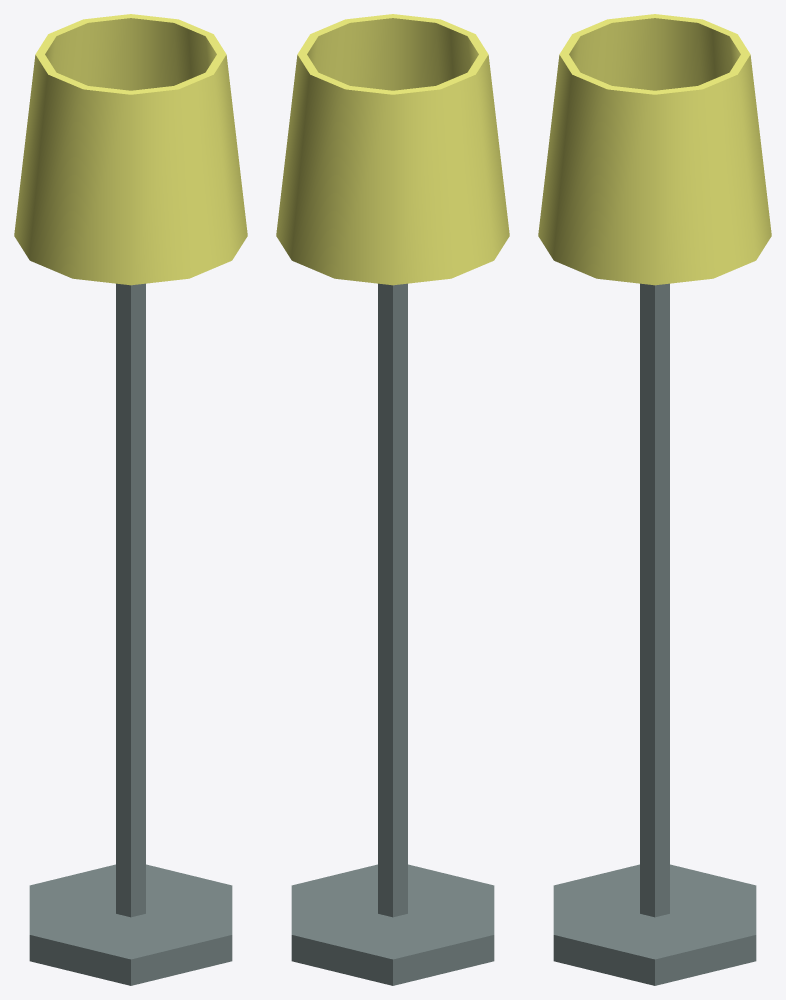
The model's file is Lump.fbx.
The picture shows the model from 3 angles, left to right: view 1: azimuth 30°, elevation 25°; view 2: azimuth 150°, elevation 25°; view 3: azimuth 270°, elevation 25°; orthographic projection.
Parts seen in each view (by area): view 1: polySurface1.001, polySurface1.002; view 2: polySurface1.001, polySurface1.002; view 3: polySurface1.001, polySurface1.002.
Boxes of the visible parts, x1=… form: polySurface1.001: x1=14, y1=14, x2=247, y2=285; polySurface1.002: x1=29, y1=283, x2=232, y2=985; polySurface1.001: x1=276, y1=14, x2=509, y2=285; polySurface1.002: x1=291, y1=283, x2=494, y2=985; polySurface1.001: x1=538, y1=14, x2=771, y2=285; polySurface1.002: x1=553, y1=283, x2=756, y2=985.
Bounding box in the file's own units: 400 × 1666 × 400.
